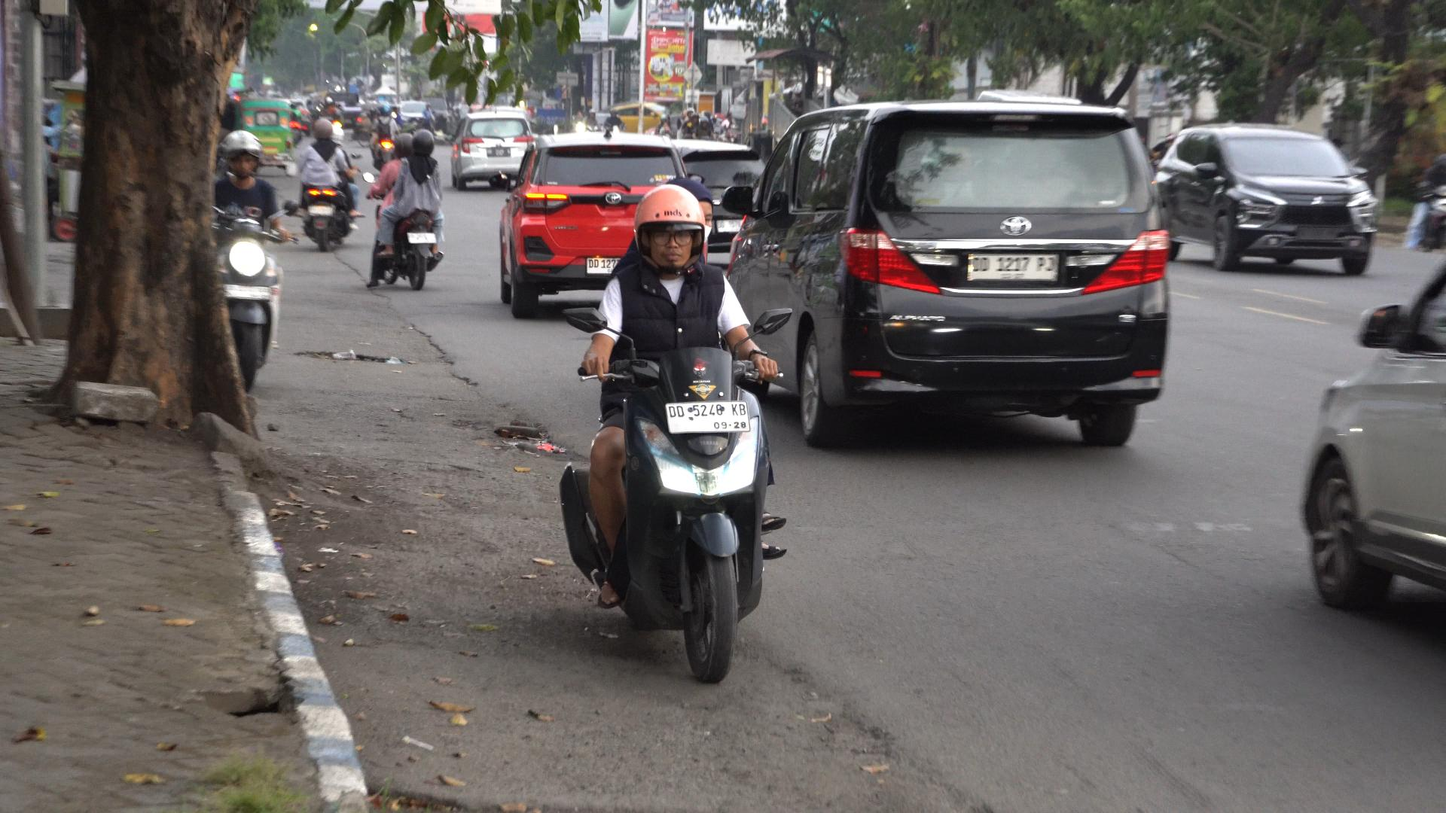number-plate: (668, 400, 751, 434)
